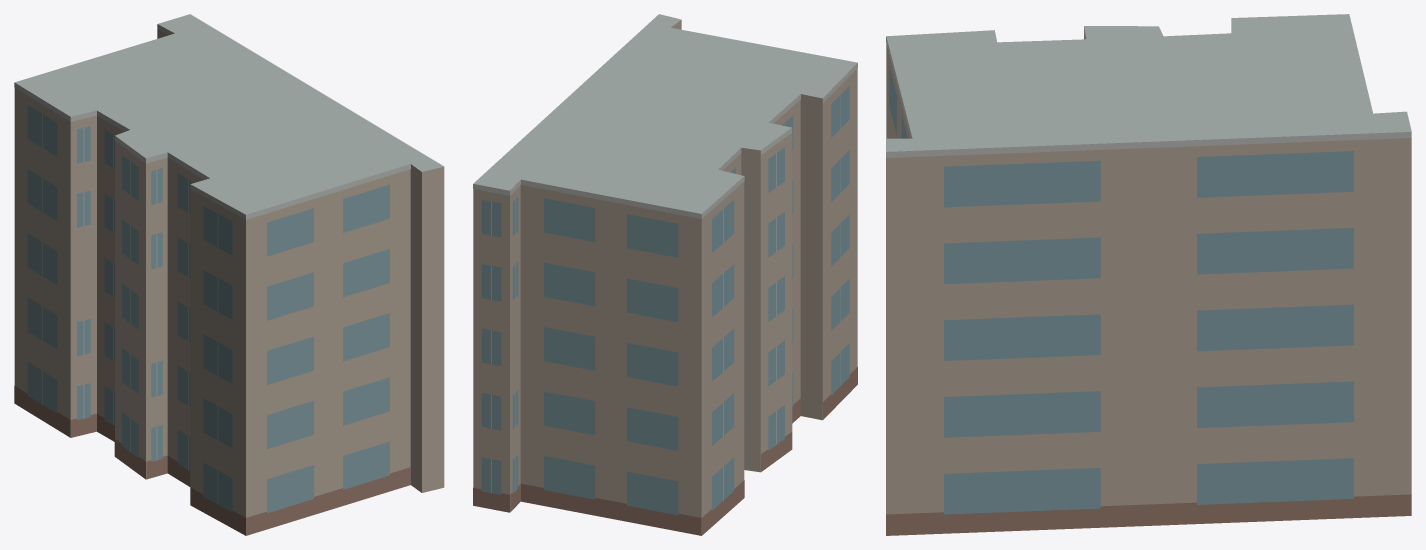
File: survey-upis-32578672.glb
3 views of the same model, side by side, from view 1: azimuth 30°, elevation 25°; view 2: azimuth 150°, elevation 25°; view 3: azimuth 270°, elevation 25° (orthographic). The views are drawn at different scales.
Visible parts, largest first — view 1: survey-upis-32578672.tmp; view 2: survey-upis-32578672.tmp; view 3: survey-upis-32578672.tmp.
Part boxes in pixels (bbox=[...]): survey-upis-32578672.tmp: bbox=[14, 14, 444, 535]; survey-upis-32578672.tmp: bbox=[473, 14, 857, 535]; survey-upis-32578672.tmp: bbox=[886, 14, 1411, 535].
Size of the model in its own units: 11.76 by 15.25 by 18.93.
